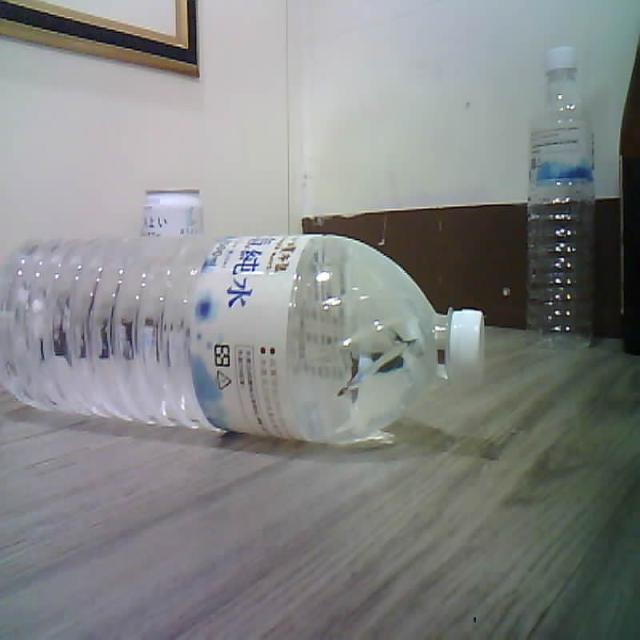bottle: (0, 234, 483, 442), (526, 47, 594, 343)
can: (142, 189, 203, 236)
